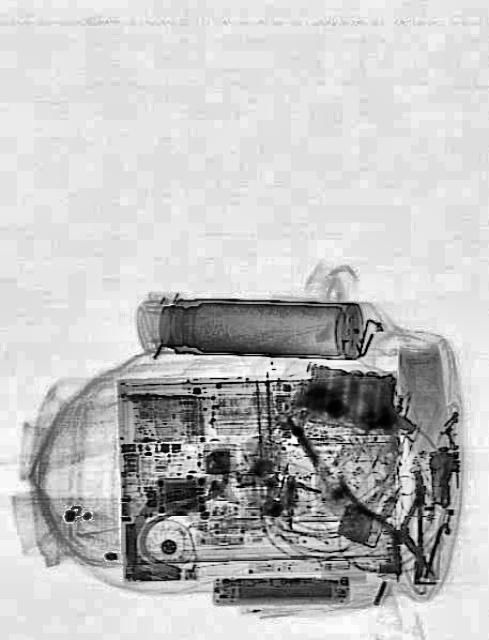Pliers: (343, 457, 444, 595)
